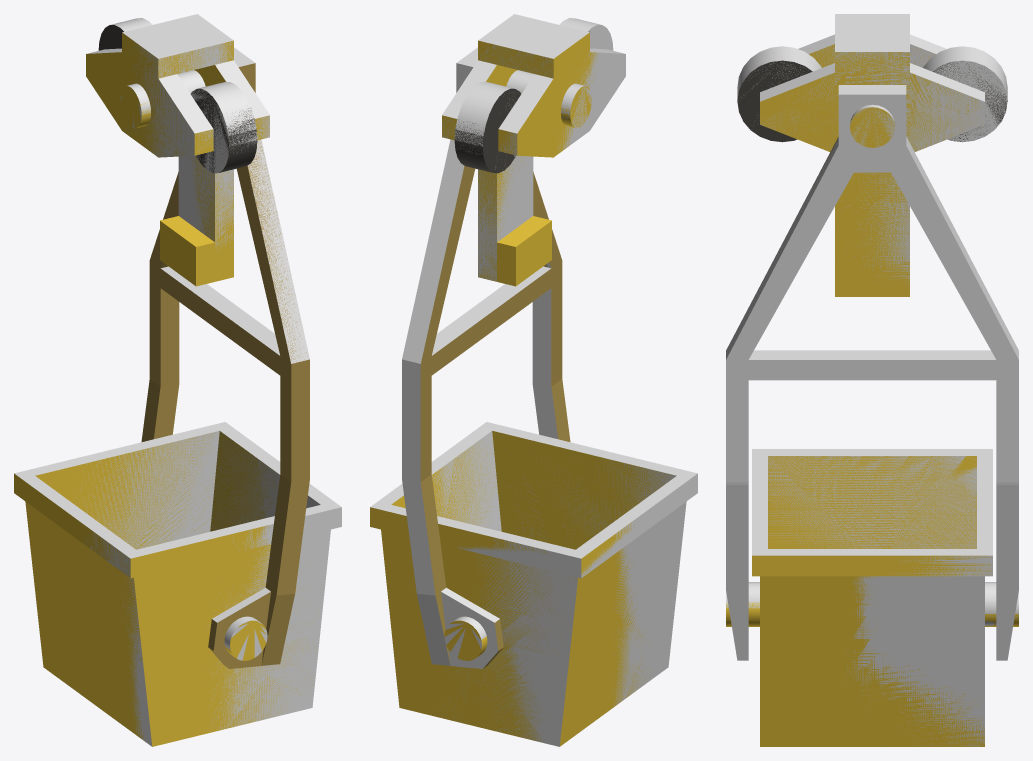
File: CableCart.fbx
The picture shows the model from 3 angles, left to right: view 1: azimuth 30°, elevation 25°; view 2: azimuth 150°, elevation 25°; view 3: azimuth 270°, elevation 25°; orthographic projection. The views are drawn at different scales.
Parts seen in each view (by area): view 1: CableCart, CableWheels-Frame, CableWheels, CableWheels.COL-2, CableCart.COL-07, CableCart.COL-08, CableWheels-Frame.COL-5, CableCart.COL-06, CableWheels.COL-1, CableCart.COL-01, CableCart.COL-02, CableCart.COL-09 (+3 smaller); view 2: CableCart, CableWheels, CableWheels.COL-2, CableCart.COL-07, CableWheels-Frame, CableCart.COL-09, CableWheels-Frame.COL-5, CableCart.COL-06, CableWheels.COL-1, CableWheels-Frame.COL-4, CableCart.COL-02, CableCart.COL-03 (+6 smaller); view 3: CableCart, CableWheels-Frame.COL-5, CableWheels, CableWheels.COL-2, CableCart.COL-06, CableCart.COL-09, CableWheels-Frame.COL-3, CableWheels-Frame.COL-4, CableCart.COL-04, CableWheels.COL-1, CableCart.COL-01, CableCart.COL-03 (+4 smaller).
Part boxes in pixels (x1=…): CableCart: x1=14, y1=431, x2=314, y2=746; CableWheels-Frame: x1=141, y1=63, x2=309, y2=668; CableWheels: x1=86, y1=25, x2=269, y2=286; CableWheels.COL-2: x1=87, y1=14, x2=269, y2=173; CableCart.COL-07: x1=74, y1=431, x2=219, y2=549; CableCart.COL-08: x1=205, y1=529, x2=330, y2=731; CableWheels-Frame.COL-5: x1=161, y1=47, x2=309, y2=363; CableCart.COL-06: x1=211, y1=431, x2=320, y2=530; CableWheels.COL-1: x1=178, y1=155, x2=233, y2=250; CableCart.COL-01: x1=131, y1=505, x2=341, y2=558; CableCart.COL-02: x1=14, y1=473, x2=135, y2=577; CableCart.COL-09: x1=123, y1=578, x2=152, y2=746; CableCart: x1=370, y1=431, x2=674, y2=746; CableWheels: x1=442, y1=32, x2=597, y2=286; CableWheels.COL-2: x1=442, y1=14, x2=625, y2=169; CableCart.COL-07: x1=440, y1=554, x2=577, y2=746; CableWheels-Frame: x1=420, y1=166, x2=570, y2=668; CableCart.COL-09: x1=611, y1=501, x2=686, y2=705; CableWheels-Frame.COL-5: x1=402, y1=47, x2=551, y2=383; CableCart.COL-06: x1=432, y1=431, x2=501, y2=531; CableWheels.COL-1: x1=478, y1=155, x2=533, y2=281; CableWheels-Frame.COL-4: x1=402, y1=379, x2=435, y2=595; CableCart.COL-02: x1=576, y1=473, x2=697, y2=577; CableCart.COL-03: x1=370, y1=505, x2=581, y2=578; CableCart: x1=726, y1=456, x2=1018, y2=746; CableWheels-Frame.COL-5: x1=726, y1=85, x2=1018, y2=380; CableWheels: x1=737, y1=44, x2=1007, y2=296; CableWheels.COL-2: x1=737, y1=14, x2=1007, y2=151; CableCart.COL-06: x1=846, y1=576, x2=984, y2=746; CableCart.COL-09: x1=768, y1=456, x2=976, y2=548; CableWheels-Frame.COL-3: x1=726, y1=380, x2=748, y2=590; CableWheels-Frame.COL-4: x1=996, y1=380, x2=1018, y2=590; CableCart.COL-04: x1=753, y1=549, x2=992, y2=576; CableWheels.COL-1: x1=836, y1=173, x2=909, y2=284; CableCart.COL-01: x1=752, y1=449, x2=767, y2=555; CableCart.COL-03: x1=977, y1=449, x2=992, y2=555.
Size of the model in its own units: 2.24 by 6.6 by 2.6.
